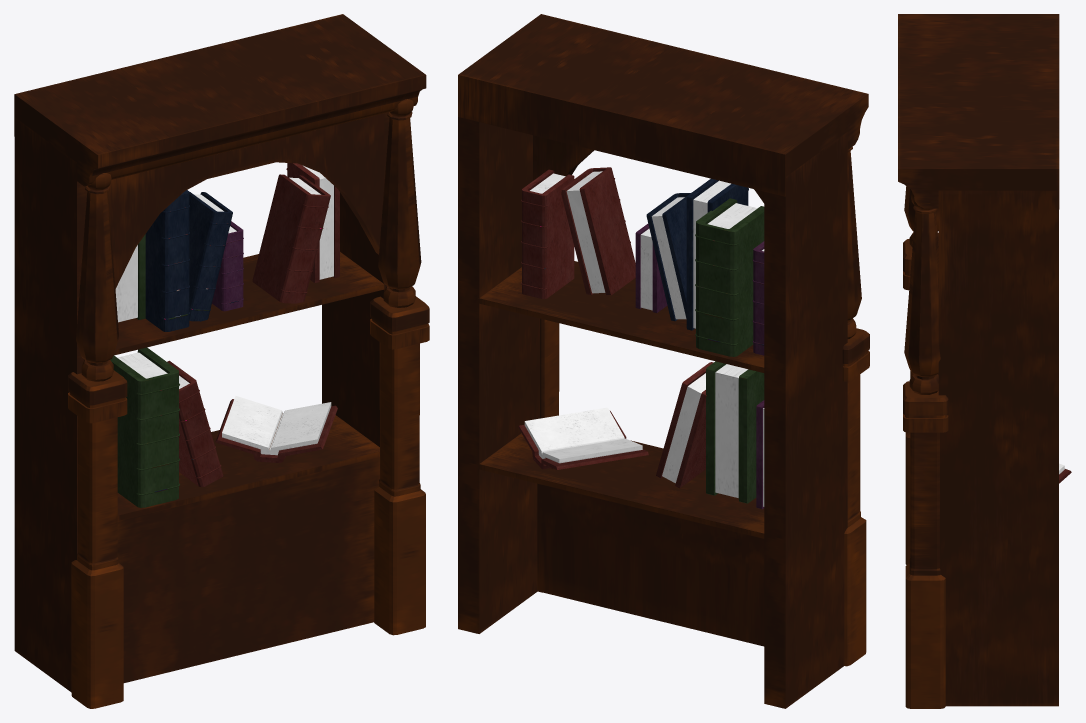
The model's file is SM_BookShelf_01.fbx.
The picture shows the model from 3 angles, left to right: view 1: azimuth 30°, elevation 25°; view 2: azimuth 150°, elevation 25°; view 3: azimuth 270°, elevation 25°; orthographic projection. The views are drawn at different scales.
Parts seen in each view (by area): view 1: BoolShelf_Low.017, BoolShelf_Low.002, BoolShelf_Low.001, BoolShelf_Low.011, BoolShelf_Low.015, BoolShelf_Low.012, BoolShelf_Low.013, BoolShelf_Low.026, BoolShelf_Low.019, BoolShelf_Low.014, BoolShelf_Low.016, BoolShelf_Low.010 (+8 smaller); view 2: BoolShelf_Low.001, BoolShelf_Low.002, BoolShelf_Low.013, BoolShelf_Low.017, BoolShelf_Low.014, BoolShelf_Low.020, BoolShelf_Low.005, BoolShelf_Low.026, BoolShelf_Low.019, BoolShelf_Low.011, BoolShelf_Low.024, BoolShelf_Low.025 (+9 smaller); view 3: BoolShelf_Low.013, BoolShelf_Low.002, BoolShelf_Low.015, BoolShelf_Low.016, BoolShelf_Low.011, BoolShelf_Low.010.
Part boxes in pixels (x1=…): BoolShelf_Low.017: x1=117, y1=457, x2=379, y2=682; BoolShelf_Low.002: x1=14, y1=14, x2=426, y2=186; BoolShelf_Low.001: x1=14, y1=117, x2=87, y2=692; BoolShelf_Low.011: x1=68, y1=370, x2=127, y2=708; BoolShelf_Low.015: x1=370, y1=296, x2=429, y2=635; BoolShelf_Low.012: x1=108, y1=113, x2=384, y2=288; BoolShelf_Low.013: x1=322, y1=112, x2=389, y2=446; BoolShelf_Low.026: x1=110, y1=347, x2=179, y2=507; BoolShelf_Low.019: x1=252, y1=174, x2=330, y2=303; BoolShelf_Low.014: x1=117, y1=415, x2=379, y2=520; BoolShelf_Low.016: x1=378, y1=99, x2=421, y2=307; BoolShelf_Low.010: x1=76, y1=173, x2=118, y2=381; BoolShelf_Low.001: x1=764, y1=132, x2=847, y2=708; BoolShelf_Low.002: x1=458, y1=14, x2=868, y2=196; BoolShelf_Low.013: x1=458, y1=117, x2=539, y2=633; BoolShelf_Low.017: x1=537, y1=483, x2=764, y2=646; BoolShelf_Low.014: x1=478, y1=433, x2=764, y2=538; BoolShelf_Low.020: x1=695, y1=198, x2=764, y2=356; BoolShelf_Low.005: x1=478, y1=261, x2=764, y2=372; BoolShelf_Low.026: x1=706, y1=361, x2=764, y2=503; BoolShelf_Low.019: x1=561, y1=167, x2=635, y2=295; BoolShelf_Low.011: x1=842, y1=328, x2=869, y2=666; BoolShelf_Low.024: x1=521, y1=169, x2=574, y2=299; BoolShelf_Low.025: x1=518, y1=407, x2=648, y2=469; BoolShelf_Low.013: x1=938, y1=190, x2=1058, y2=706; BoolShelf_Low.002: x1=898, y1=14, x2=1059, y2=209; BoolShelf_Low.015: x1=903, y1=381, x2=948, y2=708; BoolShelf_Low.016: x1=904, y1=192, x2=940, y2=394; BoolShelf_Low.011: x1=903, y1=238, x2=938, y2=564; BoolShelf_Low.010: x1=904, y1=186, x2=938, y2=247.
Bounding box in the file's own units: 226 × 350 × 103.
